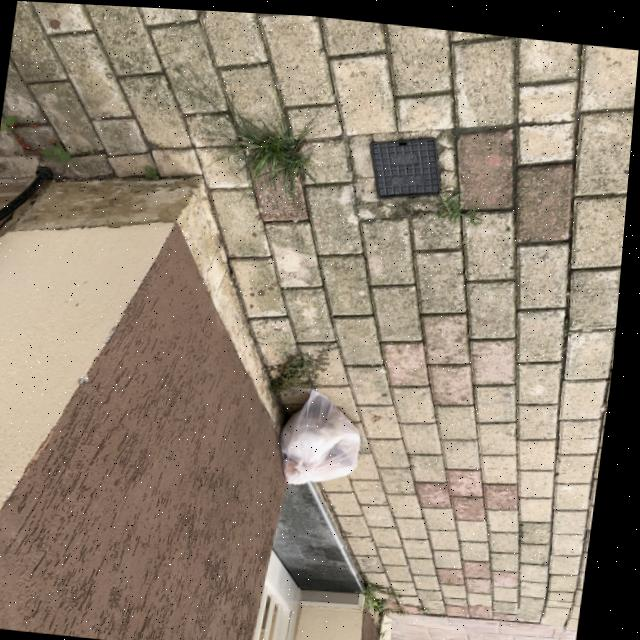Organic Waste -White Bag-: (282, 383, 374, 487)
